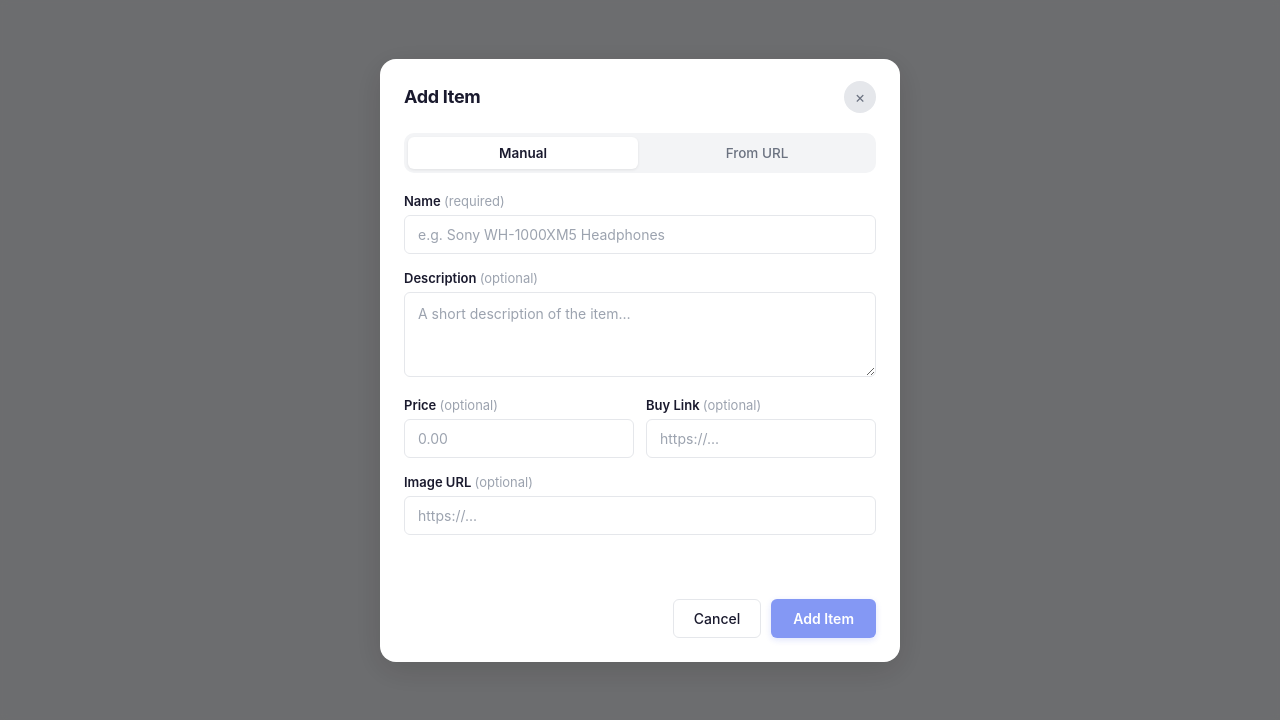
Test: AddItemModal – layout › switches to From URL tab and shows URL input
The width and height of the screenshot is (1280, 720).
Click the button "From URL" at (757, 152), box left=642, top=136, right=872, bottom=168
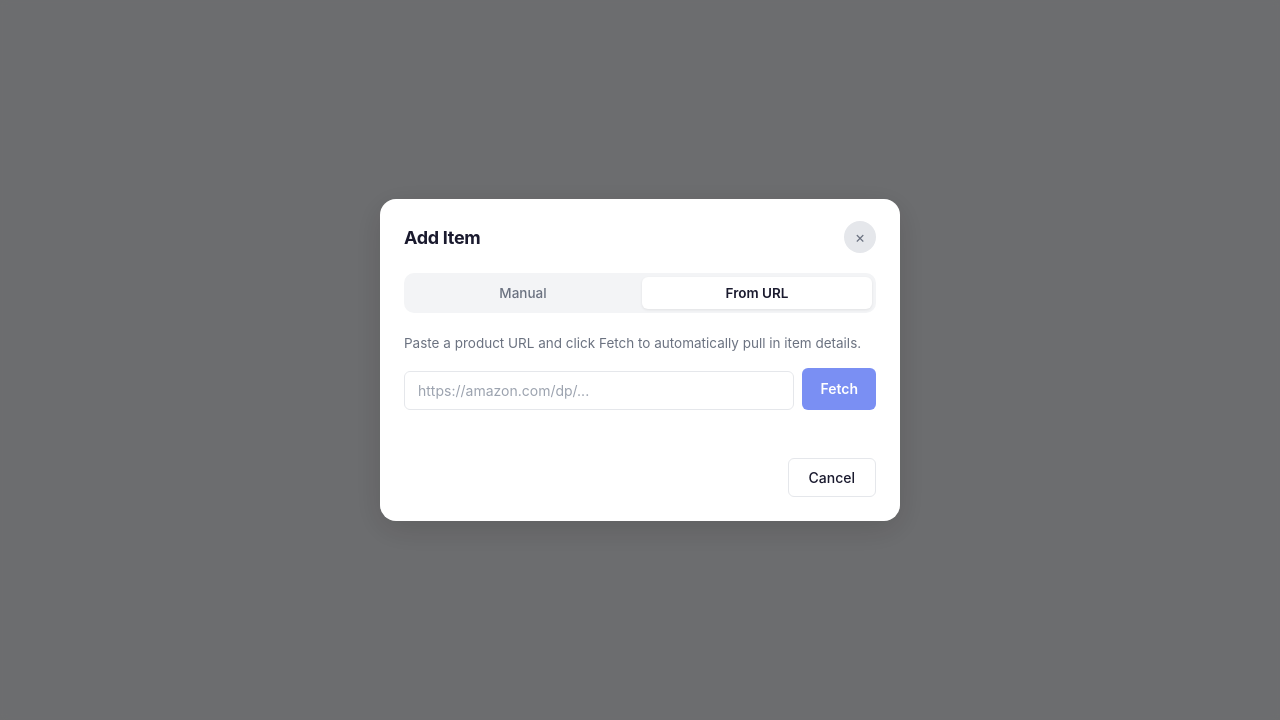
Check: the field with placeholder "https://amazon.com/dp/..." is shown, box left=404, top=371, right=794, bottom=410
